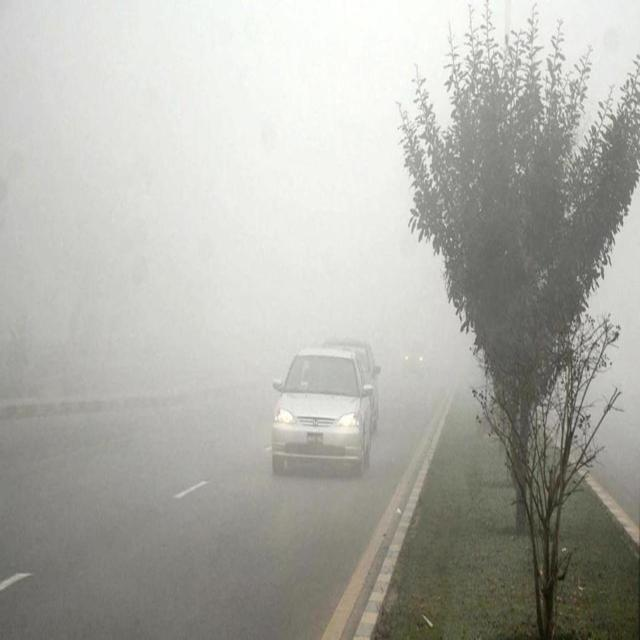Car: (268, 351, 369, 476)
